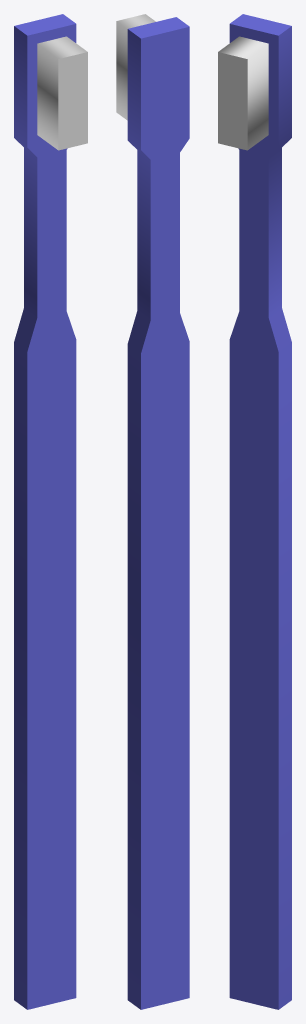
The model's file is Toothbrush.fbx.
3 views of the same model, side by side, from view 1: azimuth 30°, elevation 25°; view 2: azimuth 210°, elevation 25°; view 3: azimuth 330°, elevation 25° (orthographic).
Parts seen in each view (by area): view 1: Toothbrush; view 2: Toothbrush; view 3: Toothbrush.
Boxes of the visible parts, x1=… form: Toothbrush: x1=14, y1=14, x2=87, y2=1009; Toothbrush: x1=116, y1=14, x2=189, y2=1009; Toothbrush: x1=218, y1=14, x2=291, y2=1009.
Size of the model in its own units: 1 by 19 by 1.22.
